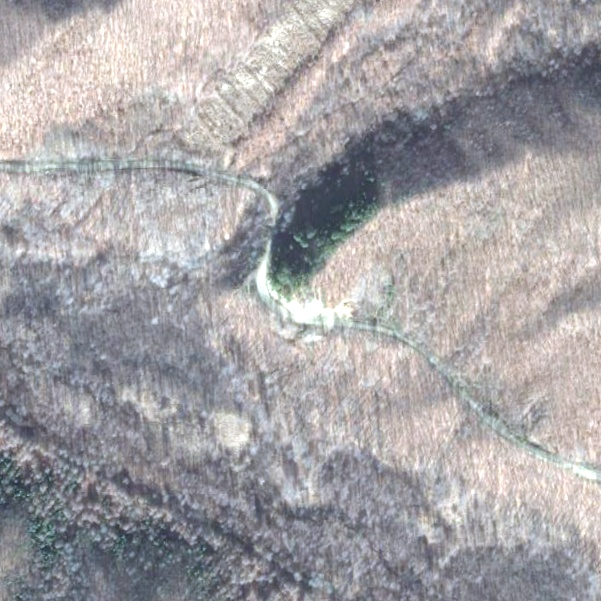slope: (251, 241, 360, 343)
